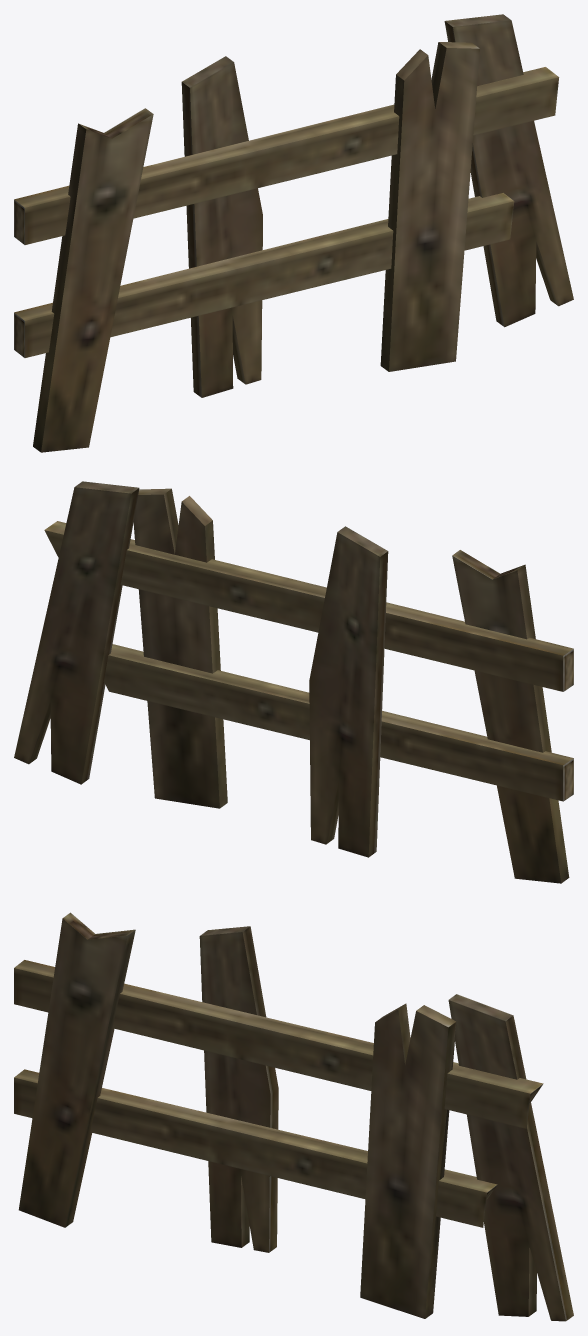
Rendered from DN_lv2_hczl03.FBX.
The picture shows the model from 3 angles, top to bottom: view 1: azimuth 30°, elevation 25°; view 2: azimuth 150°, elevation 25°; view 3: azimuth 330°, elevation 25°; orthographic projection. The views are drawn at different scales.
Visible parts, largest first — view 1: DN_lv2_hczl03; view 2: DN_lv2_hczl03; view 3: DN_lv2_hczl03.
Part boxes in pixels (left/top/right/bottom): DN_lv2_hczl03: left=14, top=14, right=573, bottom=452; DN_lv2_hczl03: left=14, top=481, right=573, bottom=883; DN_lv2_hczl03: left=14, top=912, right=573, bottom=1321.
Bounding box in the file's own units: 471 × 271 × 39.78.
